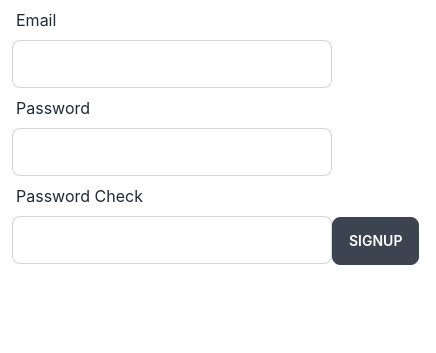
Scenario: Signup › password check field should show error message if › clicked and blank
This screenshot has width=436, height=353.
Click the field labelled "Password Check" at (172, 240), box [12,216,332,264]
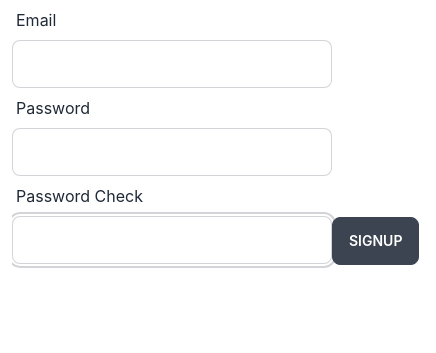
Click the field labelled "Email" at (172, 64), box [12,40,332,88]
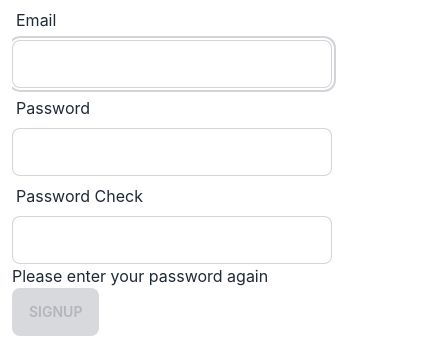
Check: the text "Please enter your password again" is shown, box [12,266,268,286]
